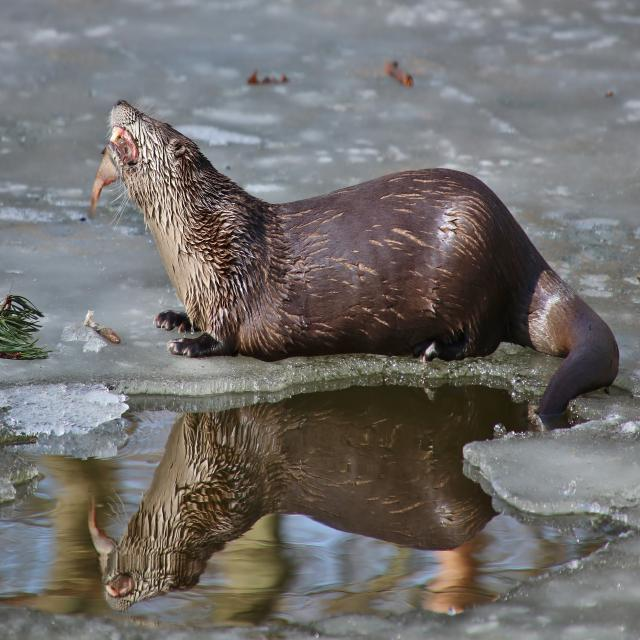otter: (109, 99, 616, 362)
